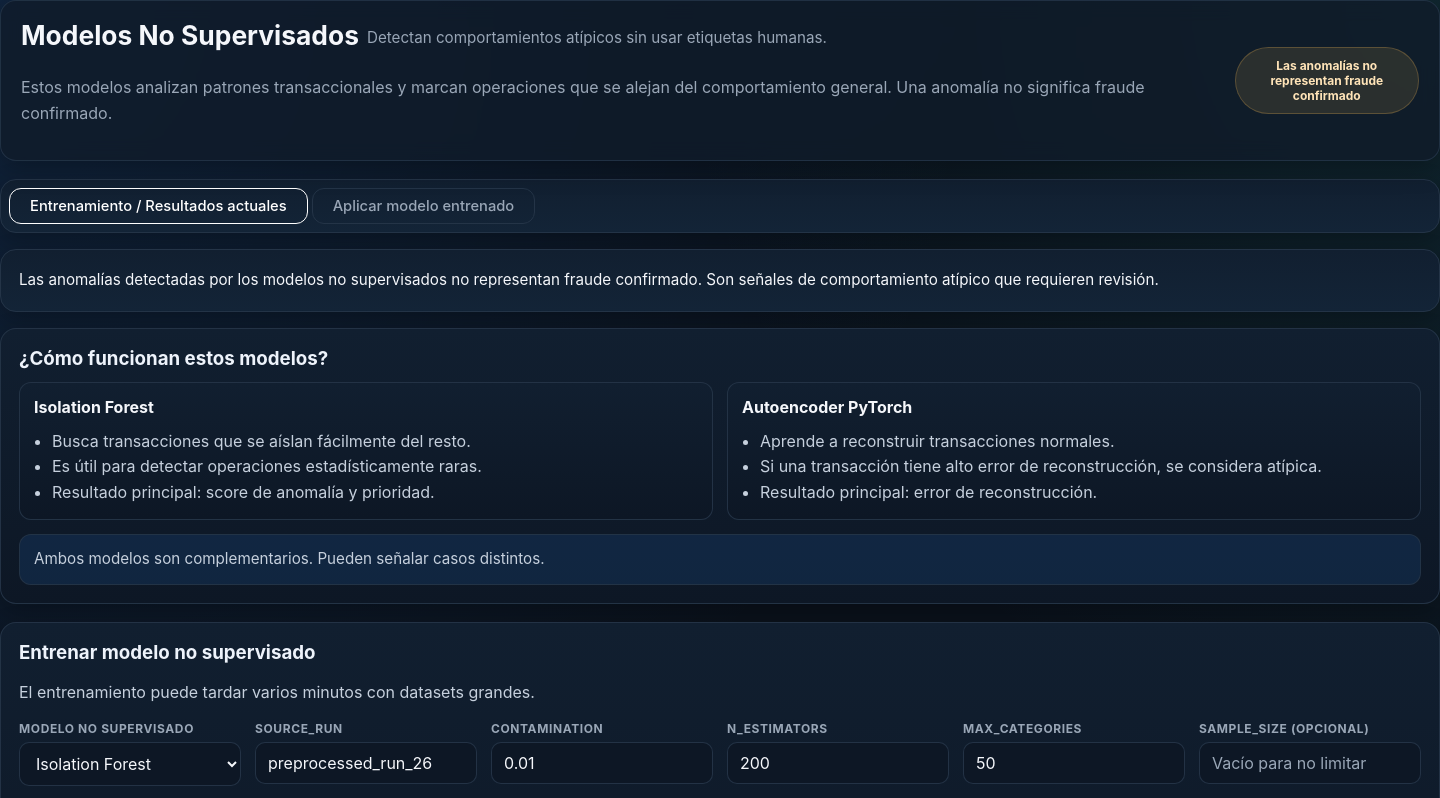
Models page — Aplicar modelo entrenado tab › apply tab shows methodology warning about no confirmed fraud
Click the button "Aplicar modelo entrenado": (424,206) [312,188,535,224]
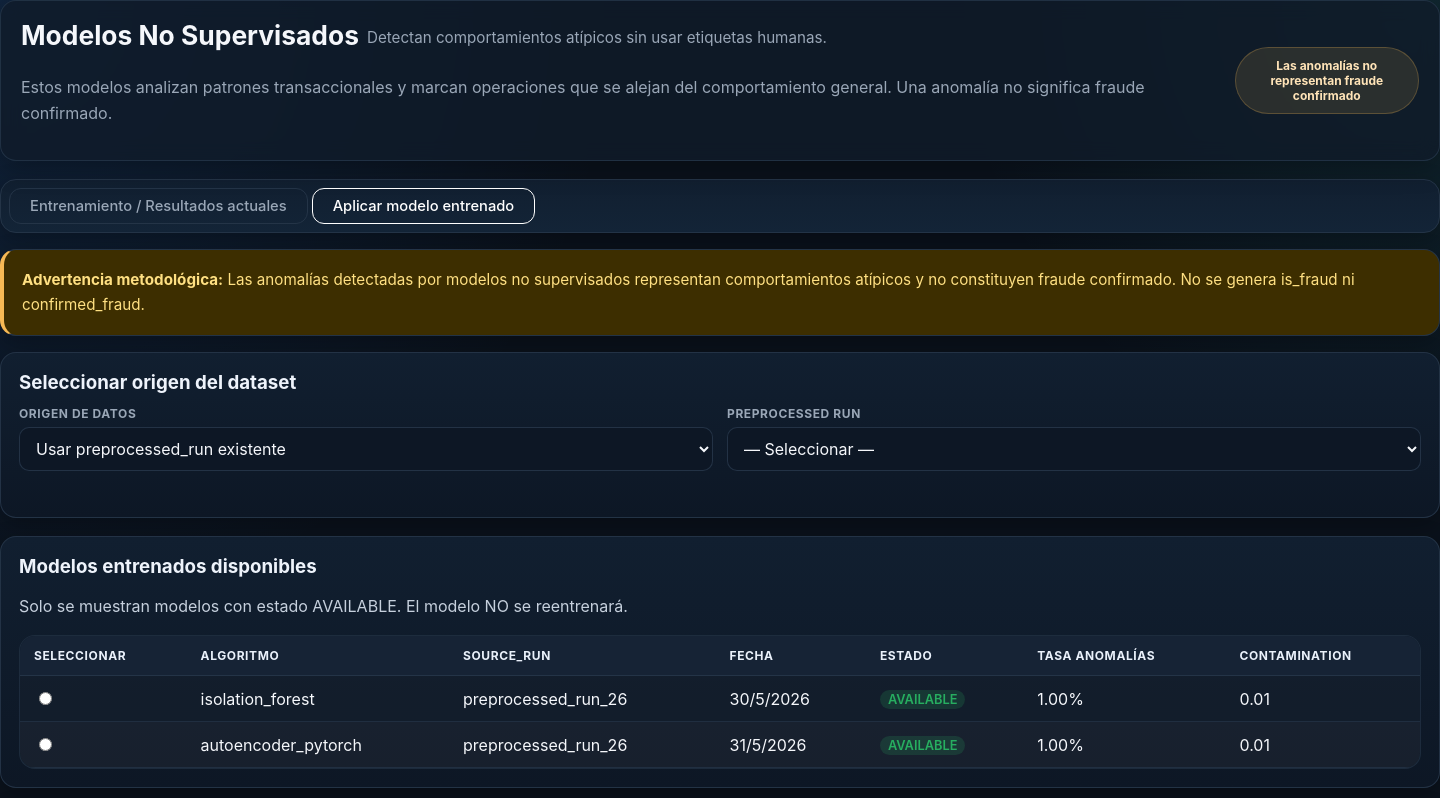
Now the text "Advertencia metodológica:" is shown, box [22,270,223,289]
Now the text "no constituyen fraude confirmado" is shown, box [22,270,1355,314]
